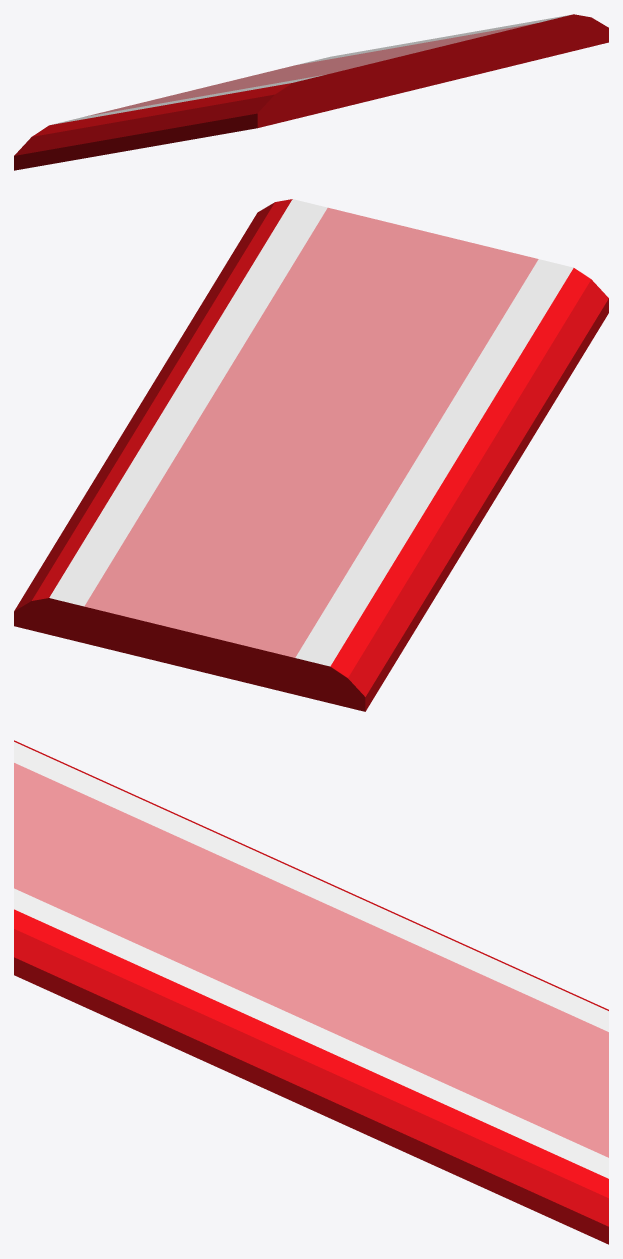
Rendered from inc13.fbx.
3 renders of one model, top to bottom at view 1: azimuth 30°, elevation 25°; view 2: azimuth 150°, elevation 25°; view 3: azimuth 270°, elevation 25°, orthographic. The views are drawn at different scales.
Parts seen in each view (by area): view 1: Incline3; view 2: Incline3; view 3: Incline3.
Boxes of the visible parts, x1,y1,x2,y2 form: Incline3: (14,14,608,170); Incline3: (14,199,608,711); Incline3: (14,740,608,1244).
Size of the model in its own units: 10 by 7 by 12.
